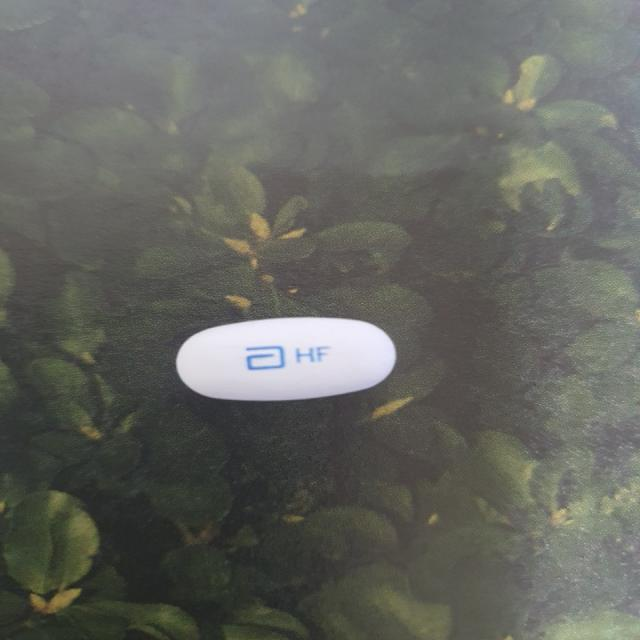pill: (167, 304, 429, 434)
